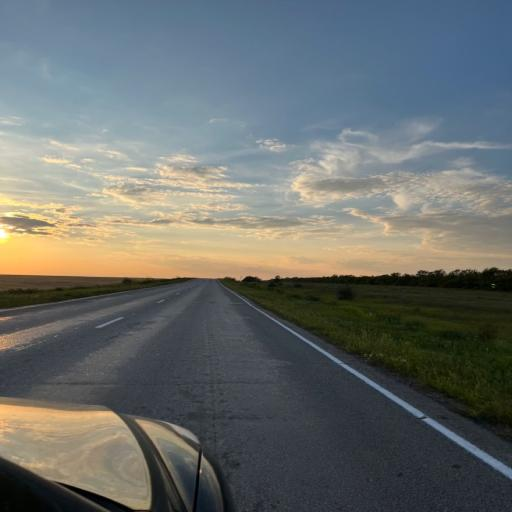bottle: (0, 397, 233, 512)
ramp: (0, 274, 511, 512)
